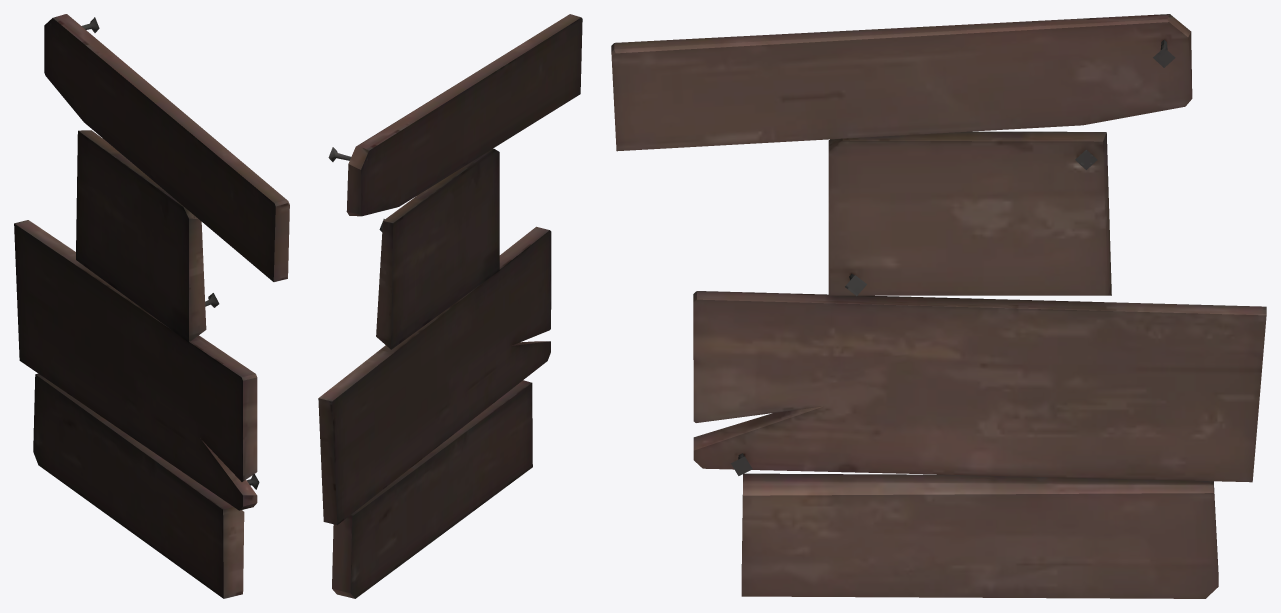
3 renders of one model, left to right at view 1: azimuth 30°, elevation 25°; view 2: azimuth 150°, elevation 25°; view 3: azimuth 270°, elevation 25°, orthographic. The views are drawn at different scales.
Visible parts, largest first — view 1: body0_model0_lod0_mesh0; view 2: body0_model0_lod0_mesh0; view 3: body0_model0_lod0_mesh0.
Boxes of the visible parts, x1=… form: body0_model0_lod0_mesh0: x1=14, y1=14, x2=289, y2=598; body0_model0_lod0_mesh0: x1=318, y1=14, x2=582, y2=598; body0_model0_lod0_mesh0: x1=611, y1=14, x2=1266, y2=598.
Bounding box in the file's own units: 7.7 × 84.42 × 87.13.
1 material, 1 textured.
